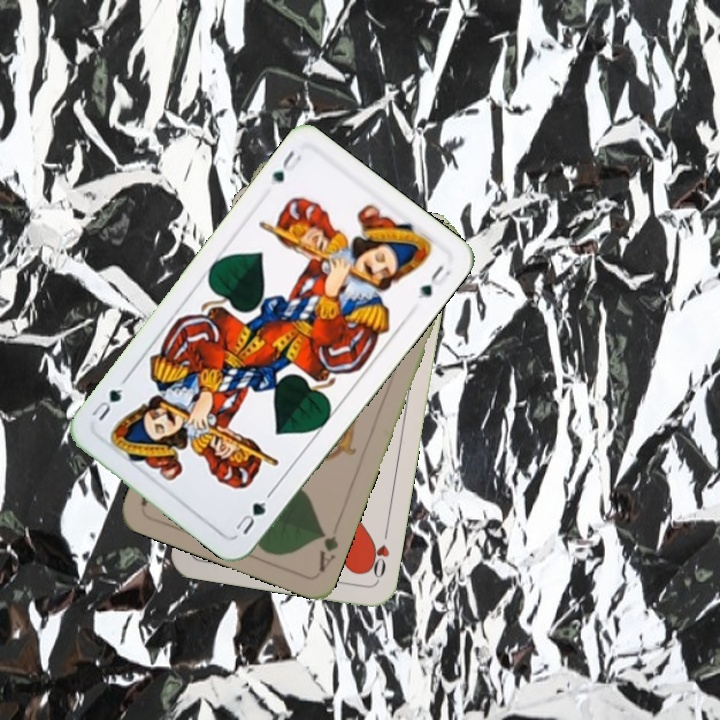GA: (314, 527, 341, 575)
GU: (266, 146, 304, 188), (231, 497, 269, 538)
HO: (363, 524, 392, 583)
